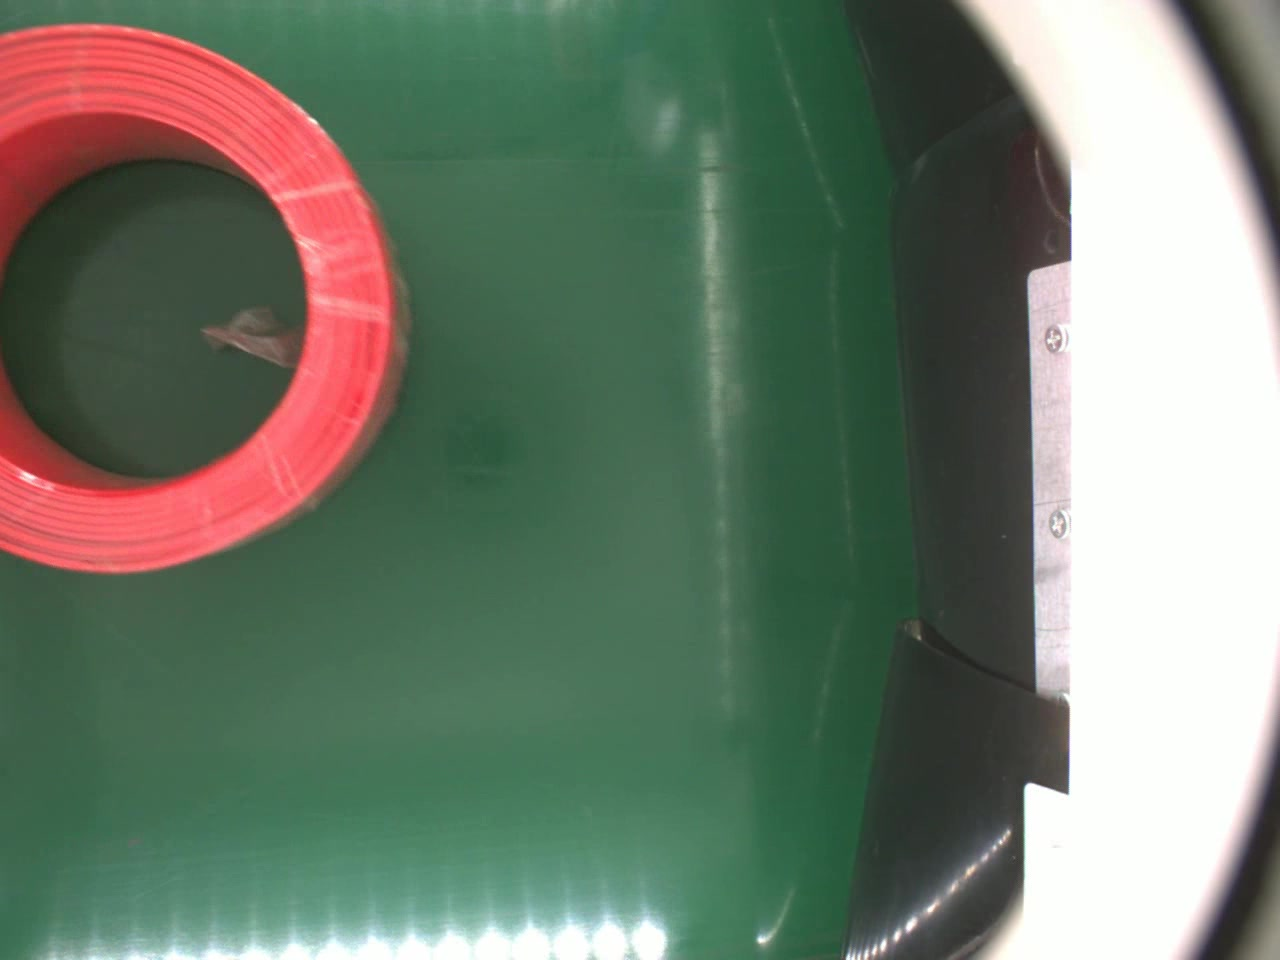red: (0, 17, 413, 580)
